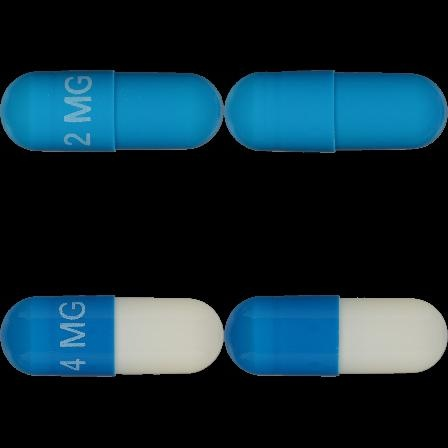35356-341: (0, 0, 224, 224)
